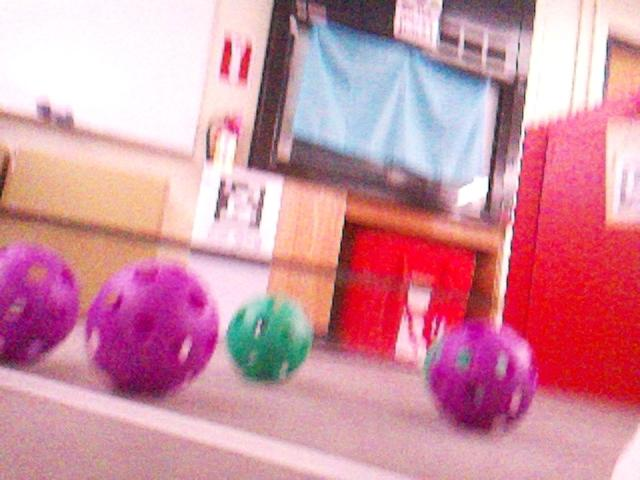Green: (224, 293, 313, 382)
Purple: (83, 258, 221, 395), (421, 318, 538, 429), (0, 242, 80, 363)
